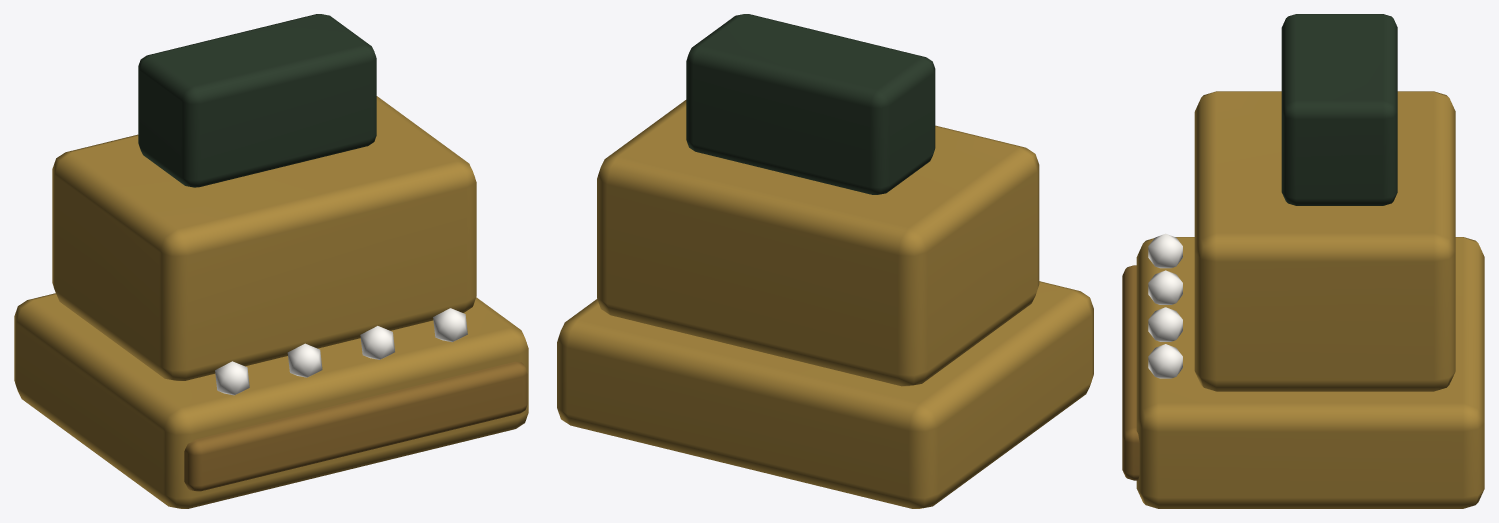
File: furn_register.glb
3 renders of one model, left to right at view 1: azimuth 30°, elevation 25°; view 2: azimuth 150°, elevation 25°; view 3: azimuth 270°, elevation 25°, orthographic. The views are drawn at different scales.
Visible parts, largest first — view 1: furn_register_main, furn_register_gloss; view 2: furn_register_main, furn_register_gloss; view 3: furn_register_main, furn_register_gloss.
Part boxes in pixels (box(x1,y1,x2,y2)): furn_register_main: box(14, 96, 528, 508); furn_register_gloss: box(138, 14, 467, 395); furn_register_main: box(557, 100, 1093, 508); furn_register_gloss: box(686, 14, 935, 194); furn_register_main: box(1122, 91, 1484, 508); furn_register_gloss: box(1148, 14, 1397, 378).
Size of the model in its own units: 0.3 by 0.28 by 0.25.
